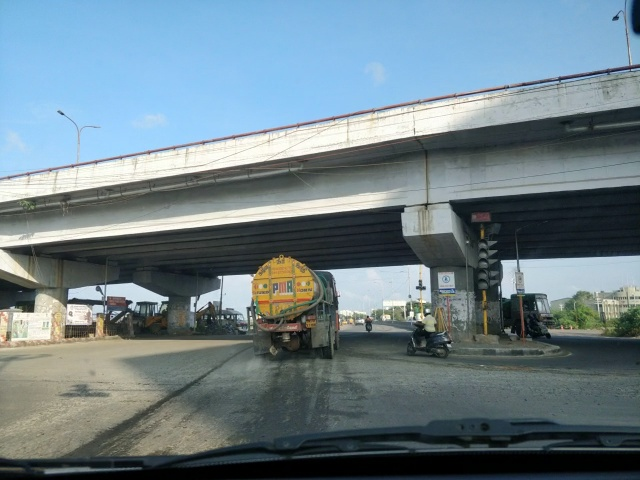motorbike: (410, 306, 451, 359), (362, 311, 375, 334)
poles: (508, 227, 534, 338)
truck: (244, 253, 348, 358)
